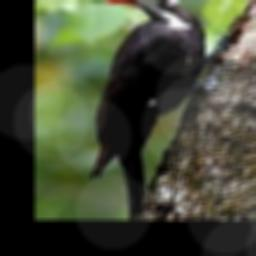Woodpecker: (92, 0, 231, 219)
